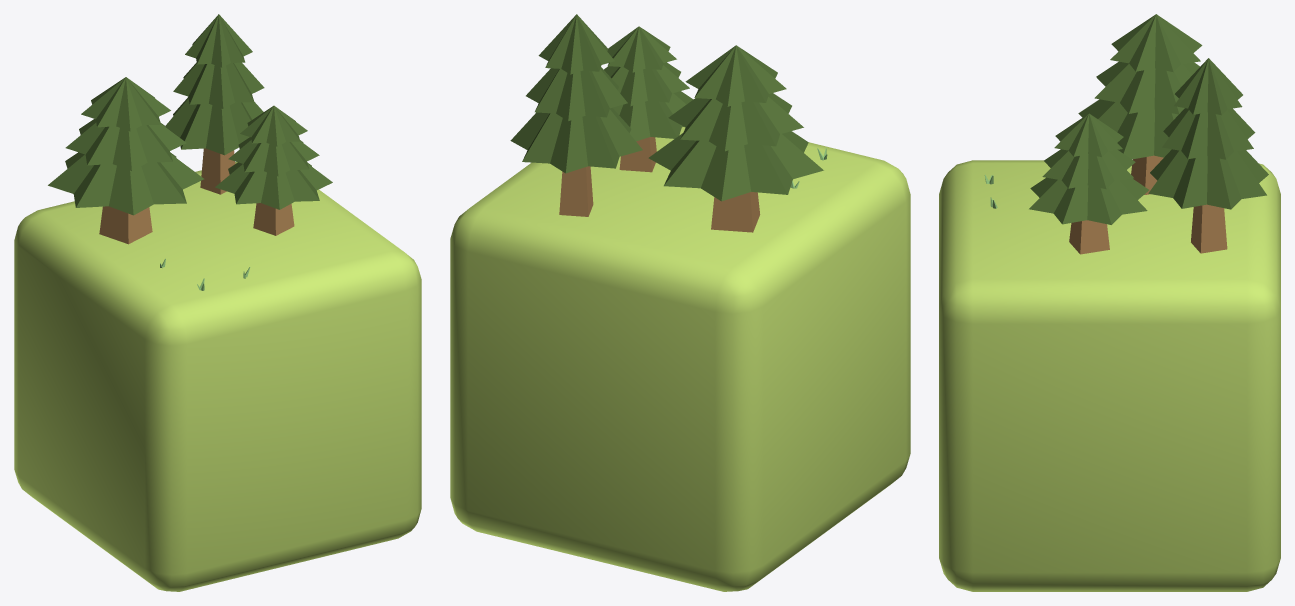
The model's file is forest4.fbx.
The picture shows the model from 3 angles, left to right: view 1: azimuth 30°, elevation 25°; view 2: azimuth 150°, elevation 25°; view 3: azimuth 270°, elevation 25°; orthographic projection. The views are drawn at different scales.
Parts seen in each view (by area): view 1: Cube.021, Cone.011, Cone.010, Cone.014, Cone.006, Cone.013, Cone.009, Cone.007, Cone.012, Cone.008, Cube.023, Cube.024 (+1 smaller); view 2: Cube.021, Cone.011, Cone.014, Cone.010, Cone.013, Cone.009, Cone.012, Cone.007, Cone.006, Cone.008, Cube.023, Cube.024 (+1 smaller); view 3: Cube.021, Cone.014, Cone.006, Cone.010, Cone.013, Cone.009, Cone.011, Cone.007, Cone.012, Cone.008, Cube.024, Cube.022 (+1 smaller).
Part boxes in pixels (left/top/right/bottom): Cube.021: left=14, top=162, right=421, bottom=591; Cone.011: left=48, top=152, right=204, bottom=215; Cone.010: left=65, top=119, right=186, bottom=170; Cone.014: left=165, top=97, right=263, bottom=155; Cone.006: left=215, top=162, right=332, bottom=209; Cone.013: left=173, top=62, right=264, bottom=108; Cone.009: left=81, top=77, right=170, bottom=131; Cone.007: left=228, top=137, right=319, bottom=176; Cone.012: left=185, top=14, right=252, bottom=67; Cone.008: left=240, top=105, right=307, bottom=146; Cube.023: left=99, top=206, right=152, bottom=244; Cube.024: left=200, top=148, right=235, bottom=194; Cube.021: left=450, top=127, right=910, bottom=591; Cone.011: left=648, top=131, right=823, bottom=201; Cone.014: left=510, top=108, right=642, bottom=173; Cone.010: left=668, top=93, right=803, bottom=151; Cone.013: left=526, top=67, right=627, bottom=121; Cone.009: left=685, top=45, right=786, bottom=106; Cone.012: left=538, top=14, right=614, bottom=74; Cone.007: left=603, top=62, right=689, bottom=106; Cone.006: left=612, top=91, right=693, bottom=141; Cone.008: left=607, top=26, right=676, bottom=72; Cube.023: left=711, top=192, right=760, bottom=232; Cube.024: left=559, top=166, right=593, bottom=216; Cube.021: left=939, top=160, right=1280, bottom=591; Cone.014: left=1148, top=149, right=1268, bottom=209; Cone.006: left=1029, top=177, right=1149, bottom=224; Cone.010: left=1094, top=61, right=1200, bottom=114; Cone.013: left=1162, top=108, right=1255, bottom=159; Cone.009: left=1110, top=14, right=1202, bottom=72; Cone.011: left=1078, top=99, right=1178, bottom=159; Cone.007: left=1042, top=149, right=1135, bottom=189; Cone.012: left=1174, top=58, right=1242, bottom=115; Cone.008: left=1054, top=113, right=1123, bottom=157; Cube.024: left=1191, top=204, right=1227, bottom=253; Cube.022: left=1069, top=220, right=1109, bottom=254.
Size of the model in its own units: 200 by 321 by 200.
